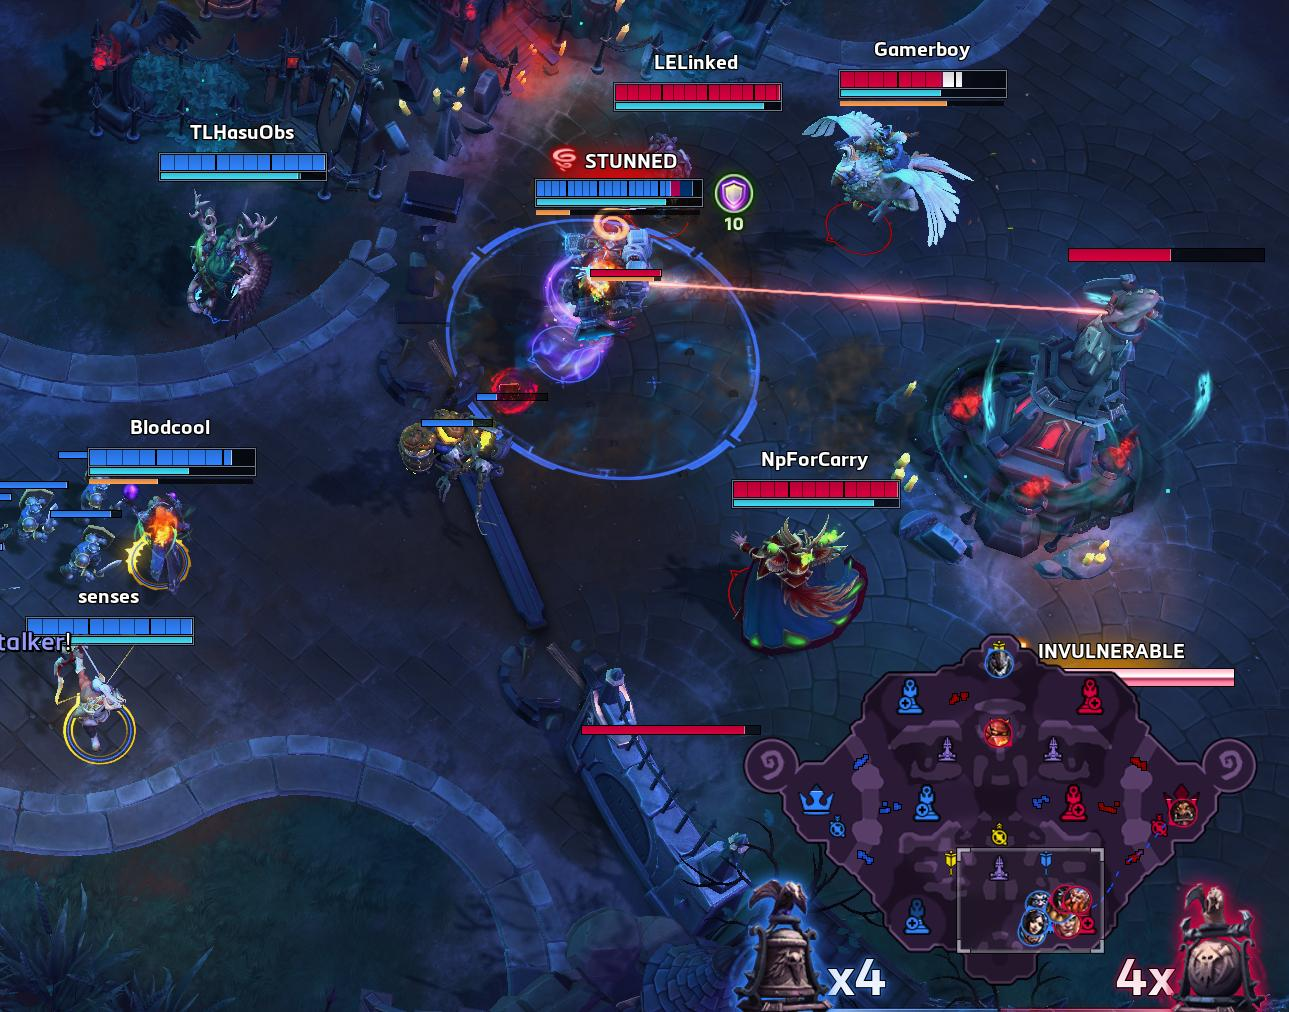blue nexus: (790, 777, 850, 831)
blue player: (978, 644, 1022, 686), (1019, 906, 1053, 938)
blue tower: (885, 672, 934, 723), (895, 888, 941, 938), (908, 780, 946, 825)
red player: (975, 717, 1022, 752), (1059, 884, 1098, 918), (1166, 795, 1202, 831)
red tower: (1054, 778, 1099, 824), (1075, 673, 1108, 723)
